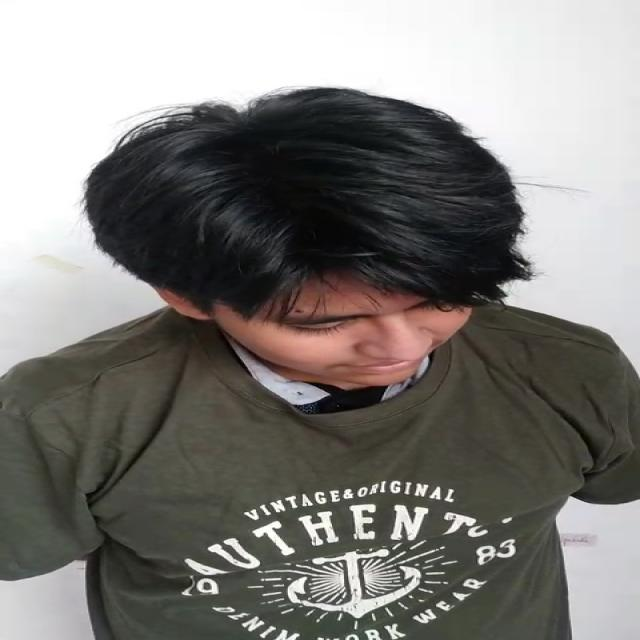9_cabeza_baja: (82, 89, 525, 388)
